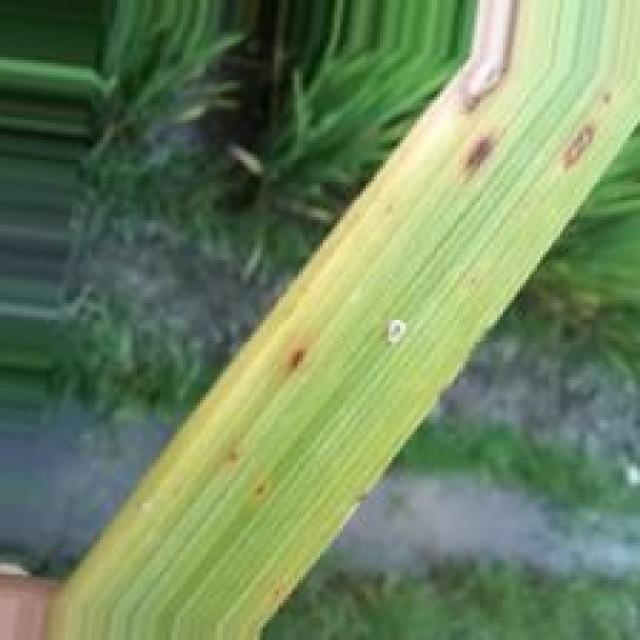Brown_Spot: (450, 0, 518, 122), (457, 126, 505, 192), (556, 118, 603, 176), (282, 344, 311, 379), (248, 479, 271, 505), (228, 442, 239, 470), (598, 90, 612, 106)
